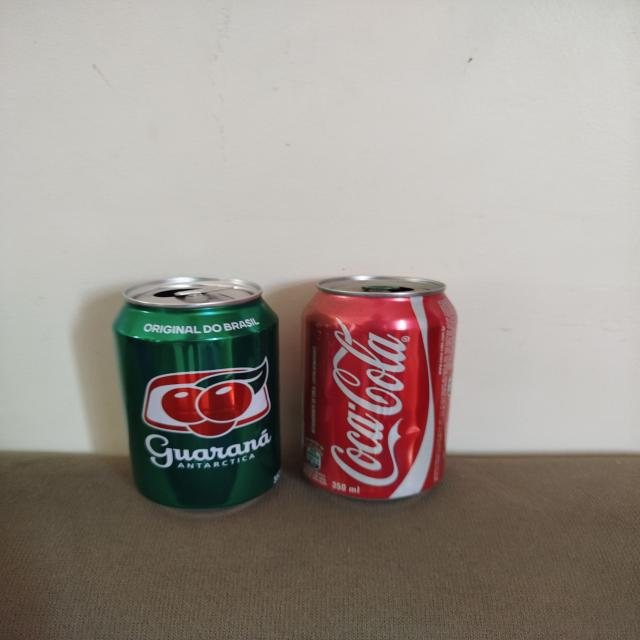Coca Cola: (307, 276, 463, 503)
Guarana: (111, 279, 282, 513)
